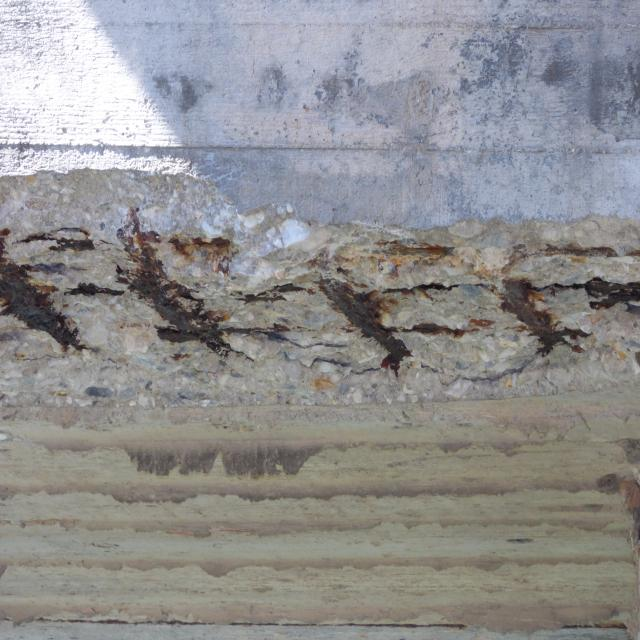corrosion: (0, 215, 640, 393), (617, 478, 640, 525)
